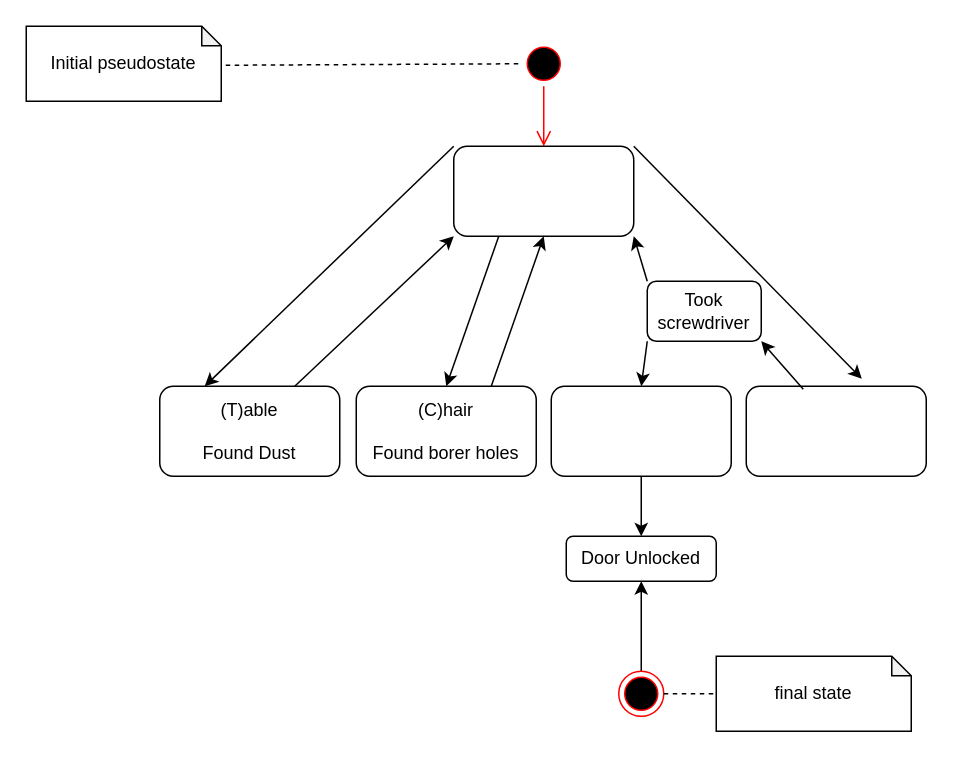
This 953x758 diagram has some shape labels left out. Each missing label, with the centre of its shape:
"(L)ocked Door" belongs at (x=640, y=430).
"(P)C Found screwdriver" belongs at (x=835, y=430).
"(R)oom" belongs at (x=543, y=190).
